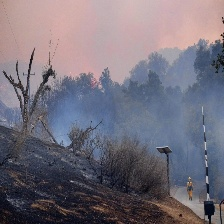smoke: (45, 65, 224, 172)
